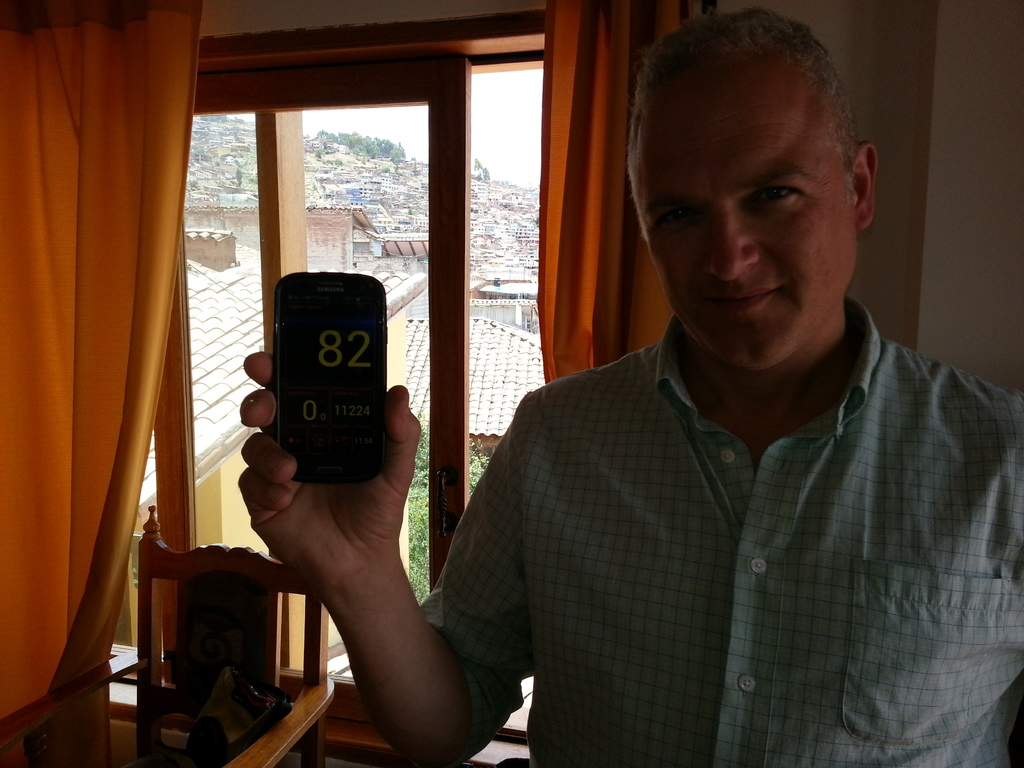Mobile-phone: (268, 270, 390, 488)
